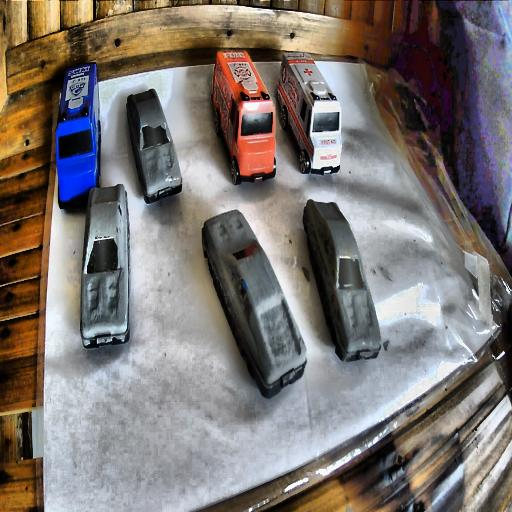ambulance: (279, 50, 343, 176)
fire_truck: (212, 49, 278, 184)
normal_car: (201, 210, 305, 397), (303, 200, 380, 362), (79, 184, 131, 350), (126, 86, 183, 205)
police car: (54, 60, 101, 210)
